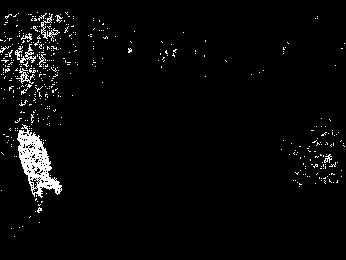person: (15, 123, 64, 213)
